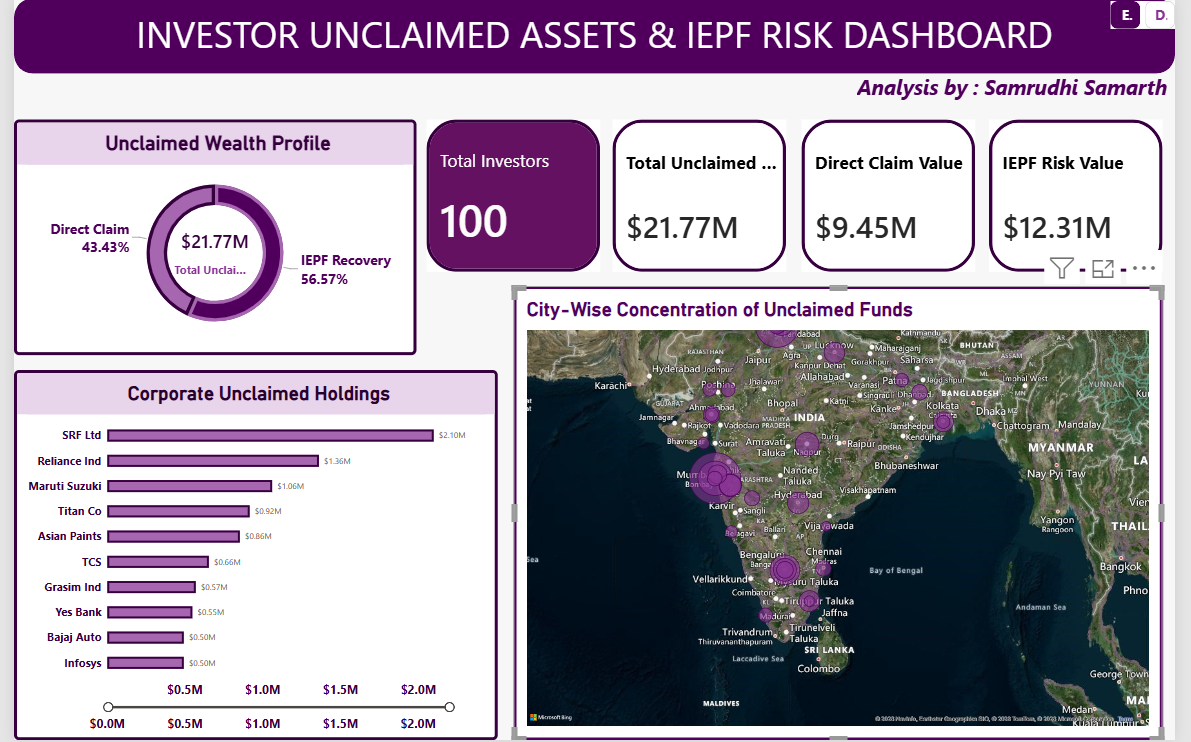

This screenshot's page, from the dashboard's own definition file:
{"tool":"powerbi","page":{"name":"Executive_Overview","canvas":[1800,1150],"ordinal":0},"visuals":[{"type":"cardVisual","fields":{"Data":["Investor_Data.Total Unclaimed Wealth"]},"box":[928.3,189.1,269.6,237],"z":0},{"type":"cardVisual","fields":{"Data":["Investor_Data.Total Investors"]},"box":[639.1,189.1,269.6,237],"z":1000},{"type":"cardVisual","fields":{"Data":["Investor_Data.IEPF Risk Value"]},"box":[1510.9,189.1,269.6,237],"z":2000},{"type":"cardVisual","fields":{"Data":["Investor_Data.Direct Claim Value"]},"box":[1221.7,189.1,269.6,237],"z":3000},{"type":"donutChart","title":"Unclaimed Wealth Profile","fields":{"Category":["Investor_Data.   Yrs Since Last Claim"],"Y":["Investor_Data.Total Unclaimed Wealth"]},"box":[0,189.1,623.9,365.2],"z":4000},{"type":"clusteredBarChart","title":"Corporate Unclaimed Holdings","fields":{"Category":["Investor_Data.Company_Name"],"Y":["Investor_Data.Total Unclaimed Wealth"]},"box":[0,576.1,750,573.9],"z":5000},{"type":"map","title":"City-Wise Concentration of Unclaimed Funds","fields":{"Category":["Investor_Data.City "],"Size":["Investor_Data.Total Unclaimed Wealth"]},"box":[773.9,445.7,1006.5,704.3],"z":6000},{"type":"shape","box":[0,0,1800,117.4],"z":7000},{"type":"textbox","box":[0,15.2,1780.4,65.2],"z":8000},{"type":"textbox","box":[0,15.2,1800,80.4],"z":9000},{"type":"textbox","box":[1306.5,117.4,493.5,52.2],"z":10000},{"type":"pageNavigator","box":[1700,4.5,100,43.2],"z":11000}]}

Visuals, with their boxes in screenshot pixels (x1, y1, x2, y2), scaled from the page's 1800x1150 canvas onto the 1191x742 screenshot:
cardVisual - Investor_Data.Total Unclaimed Wealth: 614:122:793:275
cardVisual - Investor_Data.Total Investors: 423:122:601:275
cardVisual - Investor_Data.IEPF Risk Value: 1000:122:1178:275
cardVisual - Investor_Data.Direct Claim Value: 808:122:987:275
"Unclaimed Wealth Profile" donutChart: 0:122:413:358
"Corporate Unclaimed Holdings" clusteredBarChart: 0:372:496:741
"City-Wise Concentration of Unclaimed Funds" map: 512:288:1178:741
shape: 0:0:1190:76
textbox: 0:10:1178:52
textbox: 0:10:1190:62
textbox: 864:76:1190:109
pageNavigator: 1125:3:1190:31
